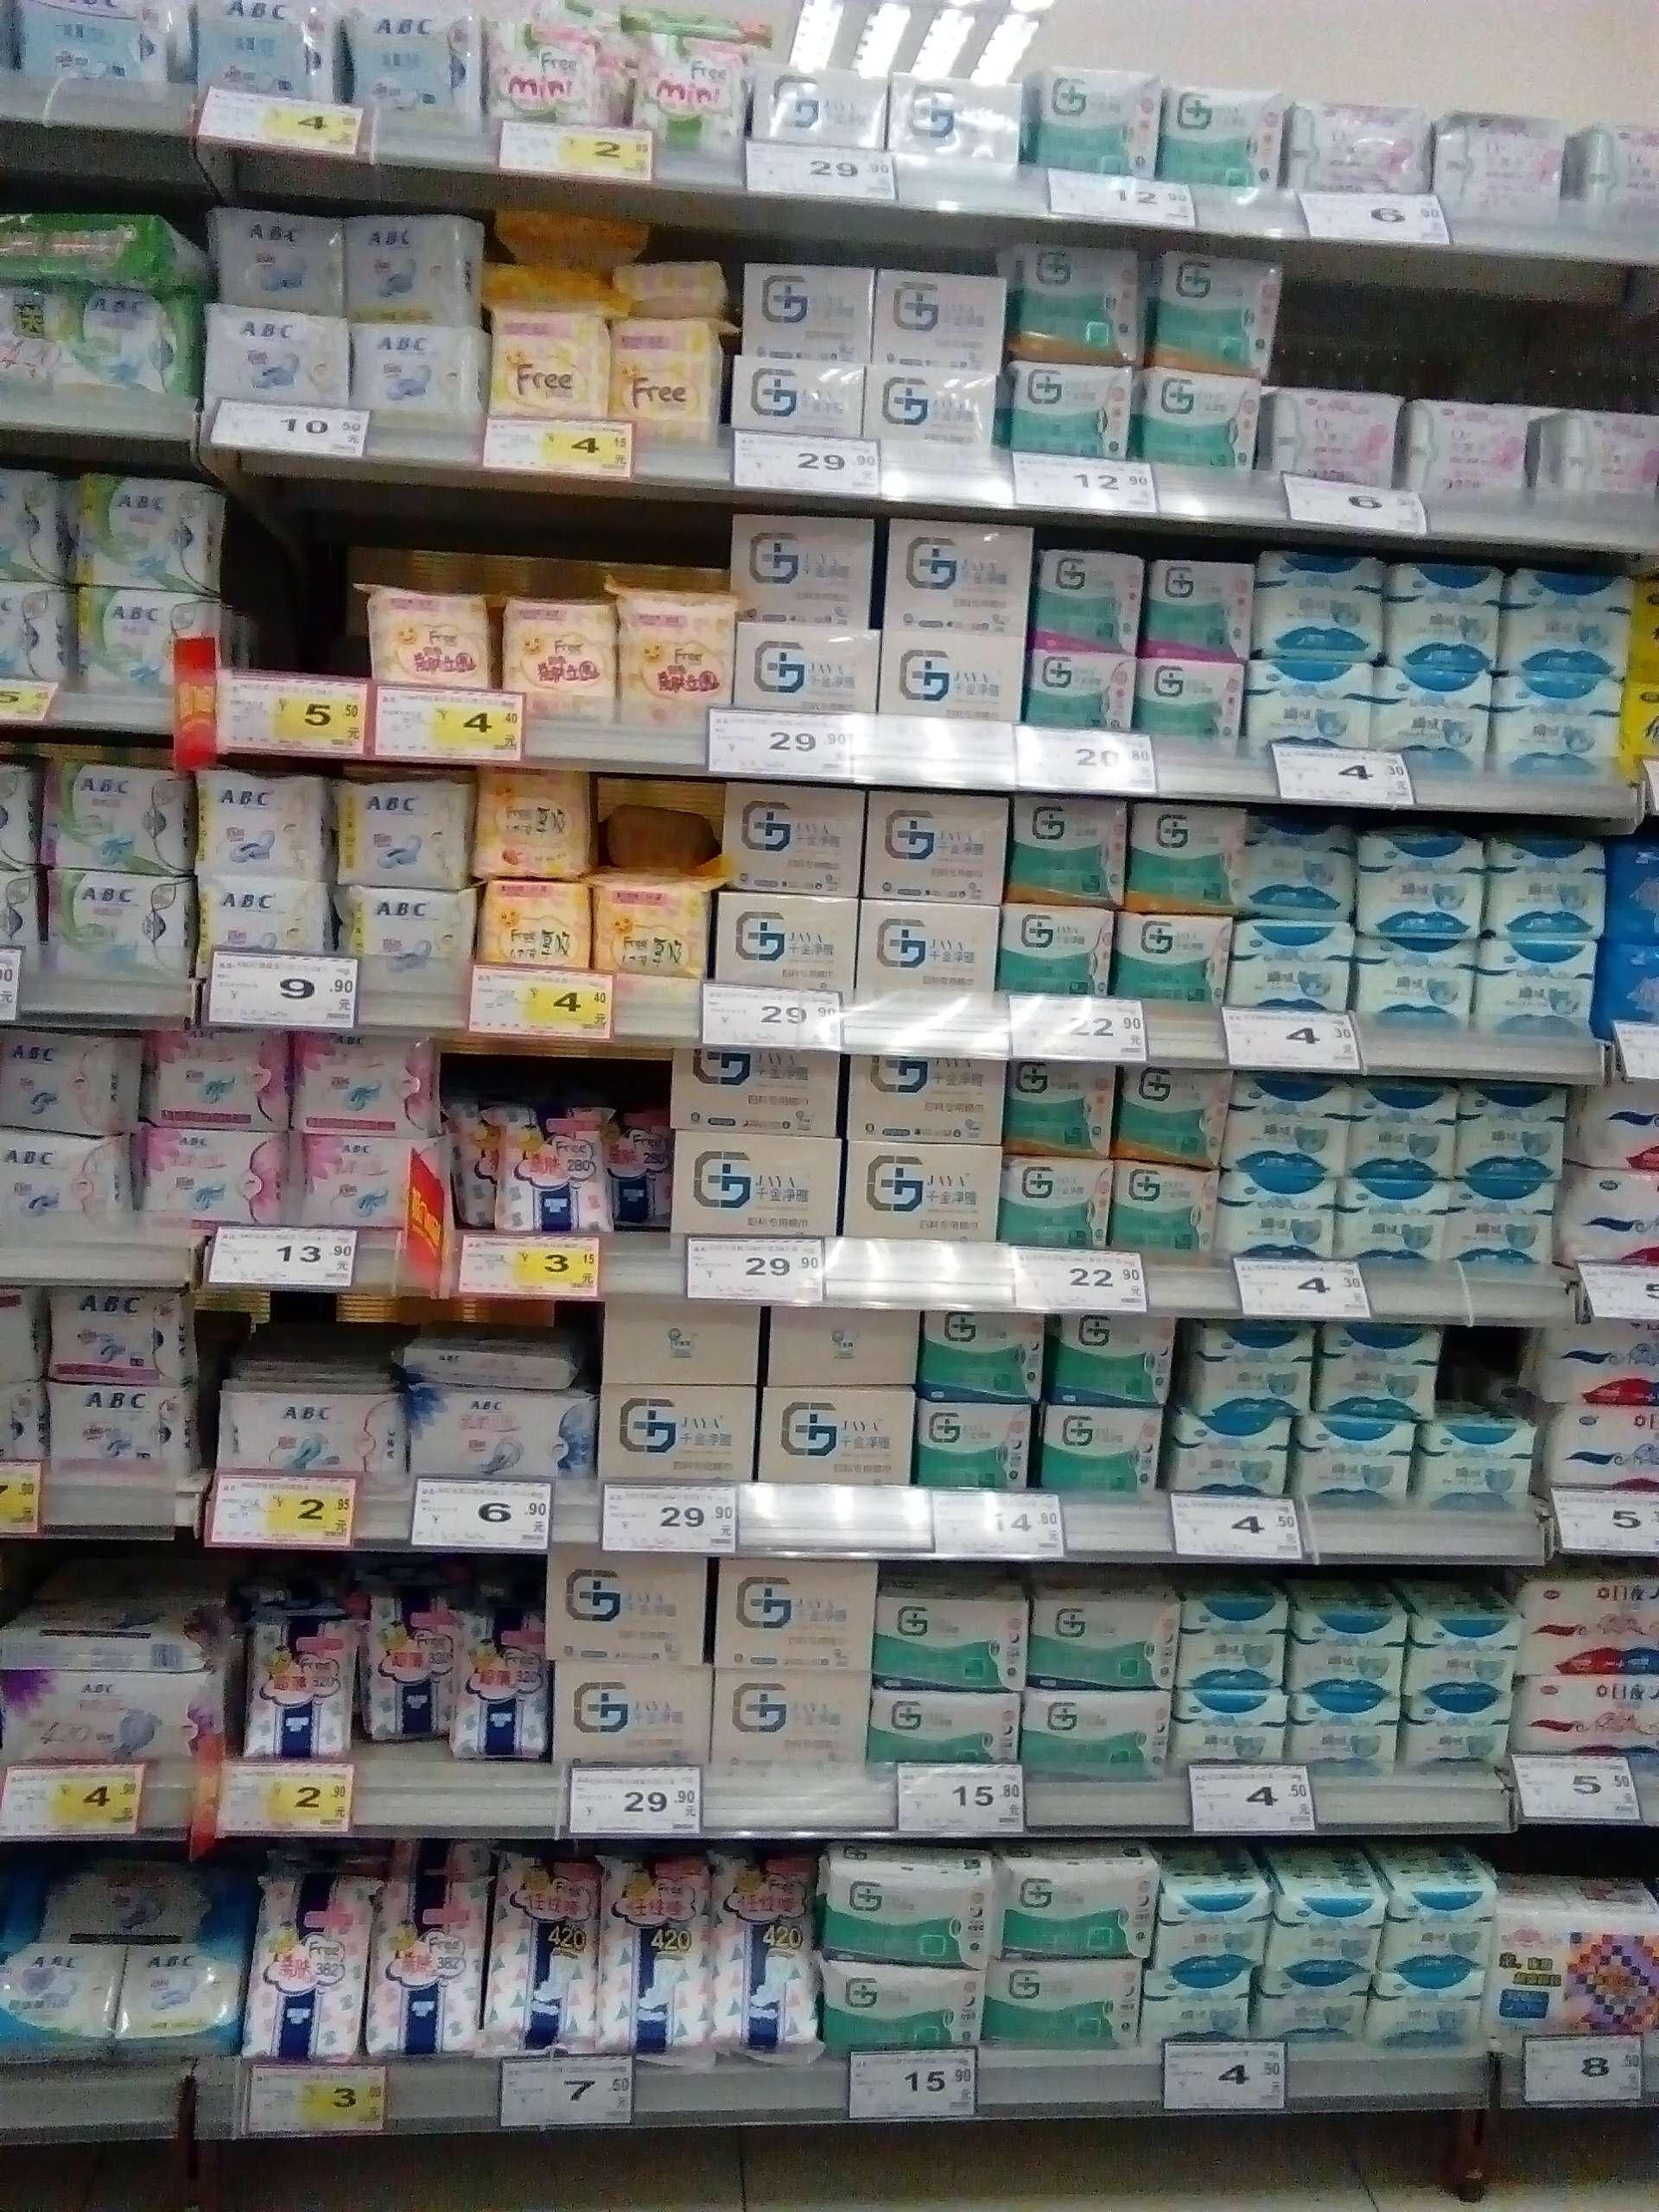empty: (232, 563, 361, 676), (1539, 300, 1649, 406), (1286, 284, 1394, 390), (1415, 294, 1523, 401), (1450, 1334, 1527, 1420)
